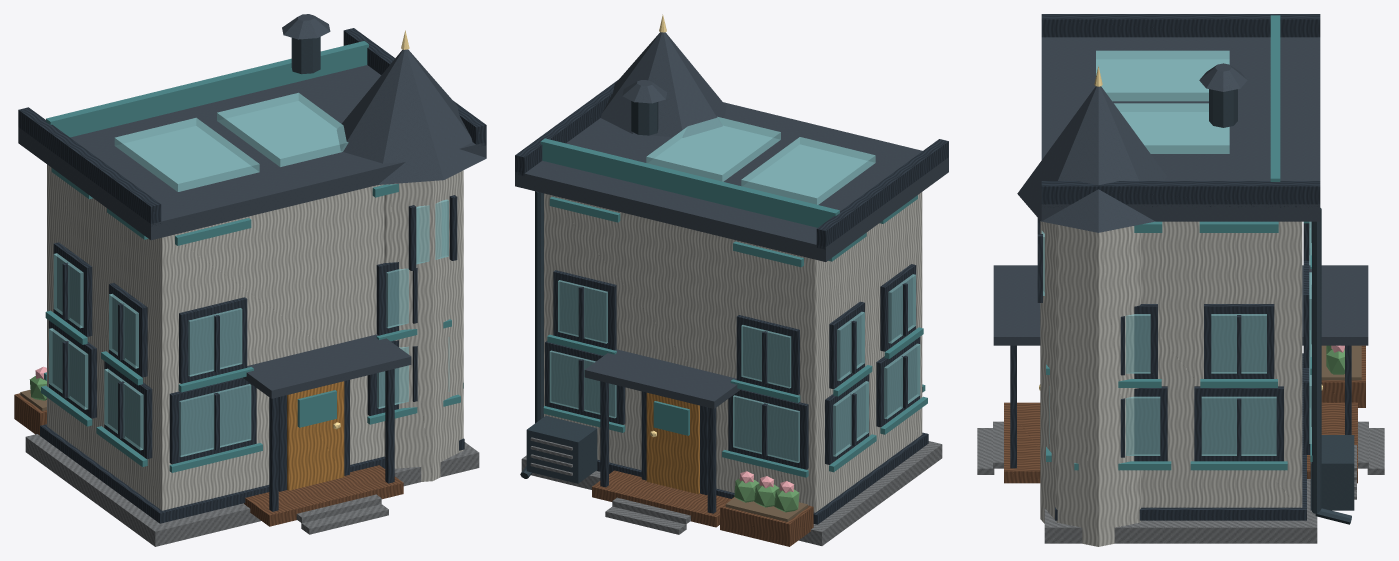
Rendered from house_modern_lv5_tower.glb.
3 renders of one model, left to right at view 1: azimuth 30°, elevation 25°; view 2: azimuth 150°, elevation 25°; view 3: azimuth 270°, elevation 25°, orthographic. The views are drawn at different scales.
Visible parts, largest first — view 1: walls, flat_roof, tower, tower_roof, roof_terrace, foundation, solar_panel, solar_panel.001, front_porch_canopy, front_window_frame, front_door, front_window_frame.002 (+35 smaller); view 2: walls, flat_roof, roof_terrace, tower_roof, solar_panel, solar_panel.001, back_porch_canopy, back_window_frame, back_door, back_window_frame.003, back_window_frame.002, foundation (+35 smaller); view 3: tower, walls, flat_roof, tower_roof, parapet, right_window_frame.001, parapet.001, solar_panel, foundation, right_window_frame.003, solar_panel.001, right_window_glass.001 (+29 smaller).
Part boxes in pixels (x1,y1,x2,y2): walls: (47, 164, 384, 510); flat_roof: (18, 65, 486, 240); tower: (384, 170, 463, 481); tower_roof: (337, 49, 486, 184); roof_terrace: (46, 41, 368, 137); foundation: (25, 434, 479, 546); solar_panel: (114, 117, 259, 191); solar_panel.001: (217, 92, 348, 166); front_porch_canopy: (243, 334, 411, 398); front_window_frame: (169, 377, 256, 464); front_door: (287, 381, 344, 490); front_window_frame.002: (179, 297, 247, 383); walls: (544, 192, 922, 512); flat_roof: (515, 102, 948, 261); roof_terrace: (540, 138, 839, 227); tower_roof: (600, 32, 726, 137); solar_panel: (741, 137, 875, 204); solar_panel.001: (646, 116, 780, 181); back_porch_canopy: (584, 349, 740, 408); back_window_frame: (728, 389, 808, 469); back_door: (646, 392, 699, 494); back_window_frame.003: (553, 270, 616, 350); back_window_frame.002: (736, 315, 799, 394); foundation: (521, 441, 942, 545); tower: (1040, 221, 1141, 546); walls: (1141, 221, 1302, 507); flat_roof: (1041, 37, 1320, 221); tower_roof: (1017, 86, 1166, 232); parapet: (1041, 14, 1320, 37); right_window_frame.001: (1194, 386, 1283, 461); parapet.001: (1041, 181, 1320, 207); solar_panel: (1096, 50, 1229, 101); foundation: (1044, 479, 1317, 543); right_window_frame.003: (1204, 304, 1274, 378); solar_panel.001: (1114, 103, 1229, 153); right_window_glass.001: (1201, 396, 1276, 455).
Size of the model in its own units: 6.6 by 7.6 by 6.19.
Materials: 13 (7 with a texture image).
